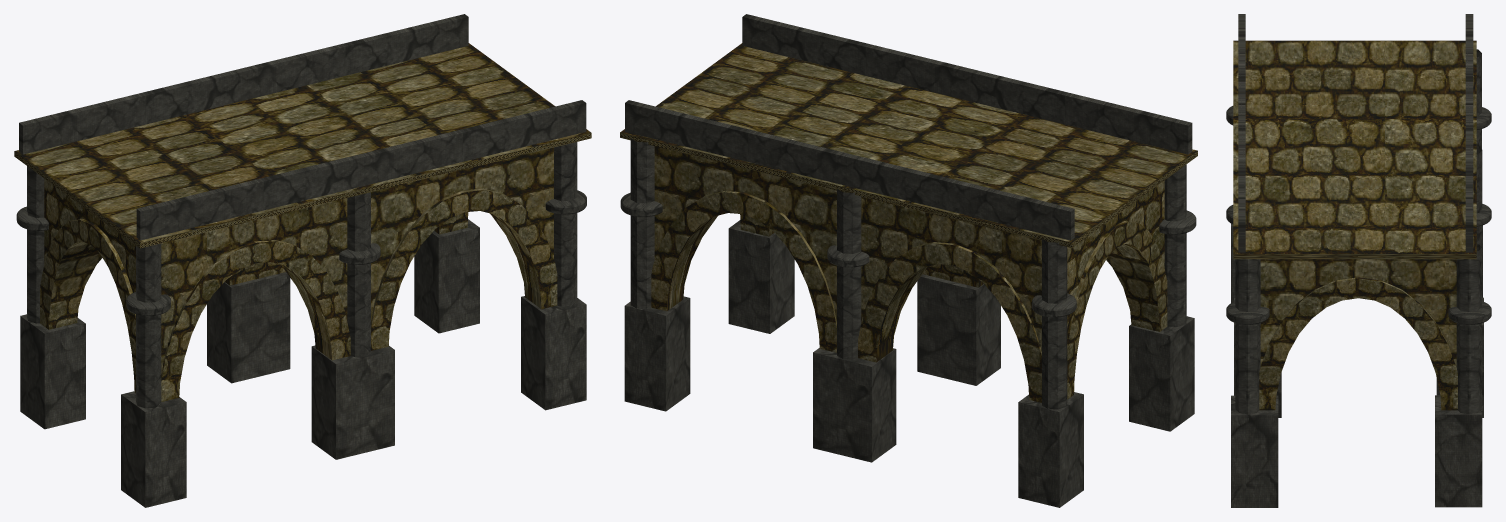
File: harbor.fbx
The picture shows the model from 3 angles, left to right: view 1: azimuth 30°, elevation 25°; view 2: azimuth 150°, elevation 25°; view 3: azimuth 270°, elevation 25°; orthographic projection. The views are drawn at different scales.
Parts seen in each view (by area): view 1: EstradaPonte, SuportePonte, CorrimaoPonte, ArcosInternos, Pilares, ParedesPonte.001, ParedesPonte.002, DecoracaoPilar; view 2: SuportePonte, EstradaPonte, CorrimaoPonte, ArcosInternos, Pilares, ParedesPonte.001, ParedesPonte.002, DecoracaoPilar; view 3: EstradaPonte, SuportePonte, ParedesPonte.002, Pilares, ArcosInternos, CorrimaoPonte, DecoracaoPilar.
Part boxes in pixels (x1=…): EstradaPonte: x1=14, y1=43, x2=591, y2=248; SuportePonte: x1=20, y1=219, x2=586, y2=507; CorrimaoPonte: x1=19, y1=14, x2=586, y2=240; ArcosInternos: x1=40, y1=188, x2=557, y2=401; Pilares: x1=27, y1=142, x2=577, y2=408; ParedesPonte.001: x1=44, y1=179, x2=347, y2=373; ParedesPonte.002: x1=371, y1=147, x2=553, y2=320; DecoracaoPilar: x1=16, y1=190, x2=586, y2=315; SuportePonte: x1=624, y1=220, x2=1194, y2=507; EstradaPonte: x1=620, y1=43, x2=1197, y2=247; CorrimaoPonte: x1=625, y1=14, x2=1192, y2=240; ArcosInternos: x1=651, y1=191, x2=1167, y2=402; Pilares: x1=630, y1=138, x2=1186, y2=409; ParedesPonte.001: x1=861, y1=180, x2=1164, y2=350; ParedesPonte.002: x1=654, y1=146, x2=836, y2=321; DecoracaoPilar: x1=620, y1=192, x2=1196, y2=317; EstradaPonte: x1=1233, y1=40, x2=1476, y2=259; SuportePonte: x1=1231, y1=223, x2=1483, y2=507; ParedesPonte.002: x1=1260, y1=259, x2=1456, y2=366; Pilares: x1=1235, y1=49, x2=1482, y2=414; ArcosInternos: x1=1259, y1=277, x2=1457, y2=410; CorrimaoPonte: x1=1238, y1=14, x2=1473, y2=252; DecoracaoPilar: x1=1226, y1=106, x2=1491, y2=324.
Bounding box in the file's own units: 1520 × 939 × 793.
Materials: 2 (2 with a texture image).
